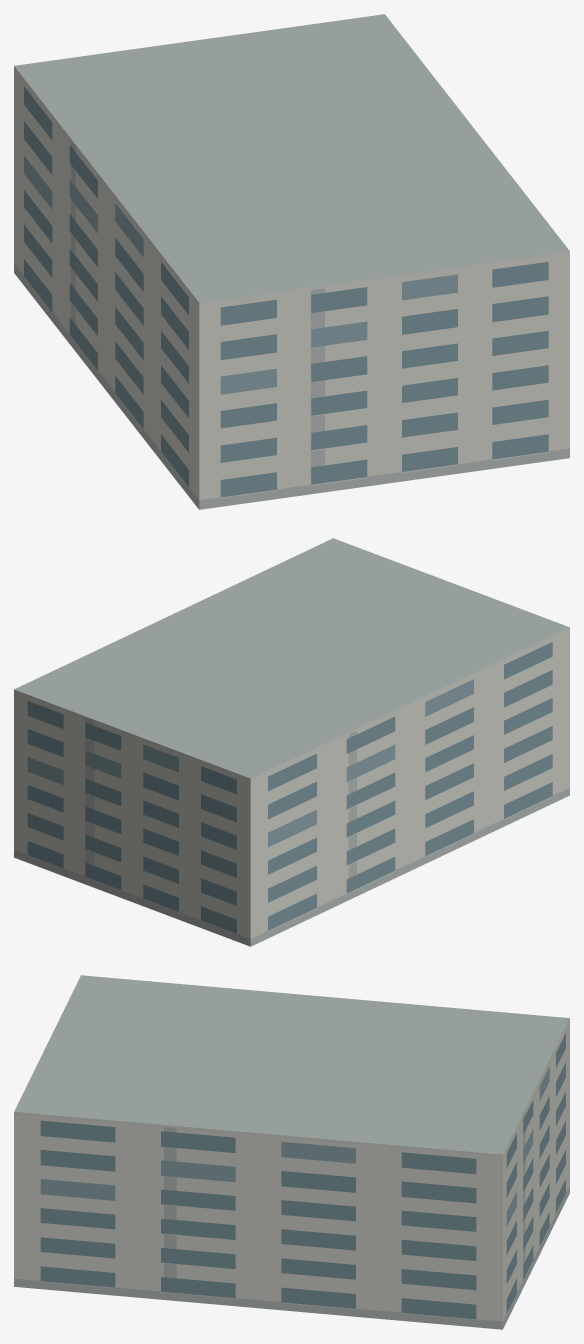
File: residential-d523c551-9288-4fbc-82f8-af291712e32a.glb
3 views of the same model, one above another, from view 1: azimuth 30°, elevation 25°; view 2: azimuth 150°, elevation 25°; view 3: azimuth 270°, elevation 25° (orthographic). The views are drawn at different scales.
Visible parts, largest first — view 1: residential-d523c551-9288-4fbc-82f8-af291712e32a.tmp; view 2: residential-d523c551-9288-4fbc-82f8-af291712e32a.tmp; view 3: residential-d523c551-9288-4fbc-82f8-af291712e32a.tmp.
Part boxes in pixels (<box>): residential-d523c551-9288-4fbc-82f8-af291712e32a.tmp: <box>14,14,569,509</box>; residential-d523c551-9288-4fbc-82f8-af291712e32a.tmp: <box>14,538,569,946</box>; residential-d523c551-9288-4fbc-82f8-af291712e32a.tmp: <box>14,975,569,1329</box>.
Size of the model in its own units: 39.59 by 18 by 51.83.
